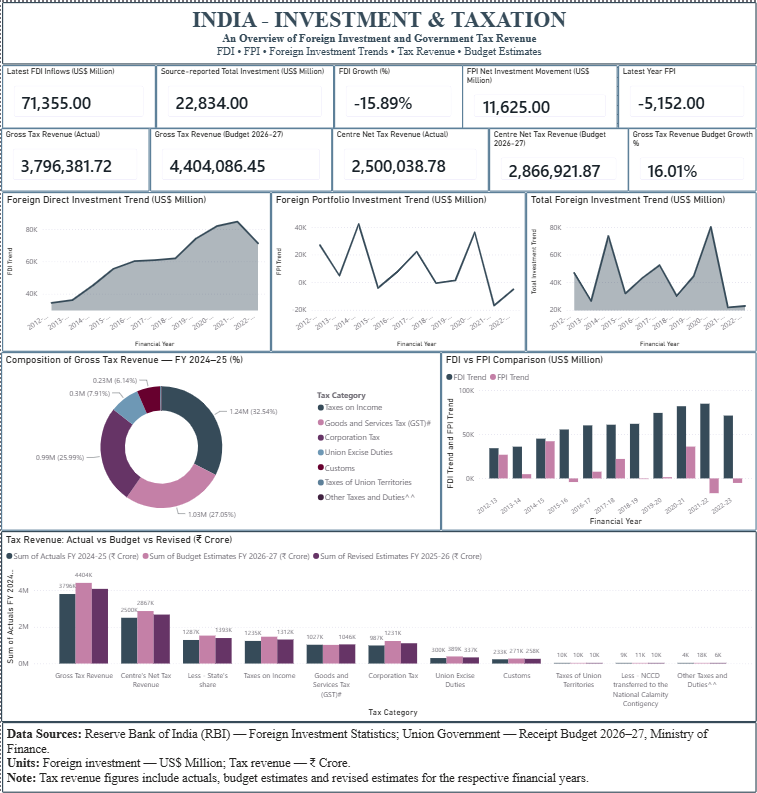

The dashboard page shown, as its layout file describes it:
{"tool":"powerbi","page":{"name":"Investment & Taxation","canvas":[1280,1340],"ordinal":7},"visuals":[{"type":"cardVisual","title":"Latest FDI Inflows (US$ Million)","fields":{"Data":["Fact_FDI.Latest Year FDI"]},"box":[1.7,106.3,260.6,108],"z":0},{"type":"cardVisual","title":"Latest Year FPI","fields":{"Data":["Fact_FPI.Latest Year FPI"]},"box":[1045.7,106.3,234.9,108],"z":1000},{"type":"cardVisual","title":"Source-reported Total Investment (US$ Million)","fields":{"Data":["Fact_Total_Investment.Latest Year Total Investment"]},"box":[262.3,106.3,301.7,108],"z":2000},{"type":"cardVisual","title":"FDI Growth (%)","fields":{"Data":["Fact_FDI.FDI Growth %"]},"box":[564,106.3,219.4,108],"z":3000},{"type":"cardVisual","title":"FPI Net Investment Movement (US$ Million)","fields":{"Data":["Fact_FPI.FPI Net Investment Movement"]},"box":[781.7,106.3,264,108],"z":4000},{"type":"lineChart","title":"Foreign Direct Investment Trend (US$ Million)","fields":{"Category":["Dim_Investment_Year.Financial Year"],"Y":["Fact_FDI.FDI Trend"]},"box":[1.7,322.3,456,270.9],"z":5000},{"type":"lineChart","title":"Foreign Portfolio Investment Trend (US$ Million)","fields":{"Category":["Dim_Investment_Year.Financial Year"],"Y":["Fact_FPI.FPI Trend"]},"box":[457.7,322.3,432,270.9],"z":6000},{"type":"lineChart","title":"Total Foreign Investment Trend (US$ Million)","fields":{"Category":["Dim_Investment_Year.Financial Year"],"Y":["Fact_Total_Investment.Total Investment Trend"]},"box":[889.7,322.3,390.9,270.9],"z":7000},{"type":"clusteredColumnChart","title":"FDI vs FPI Comparison (US$ Million)","fields":{"Category":["Dim_Investment_Year.Financial Year"],"Y":["Fact_FDI.FDI Trend","Fact_FPI.FPI Trend"]},"box":[745.7,593.1,534.9,303.4],"z":8000},{"type":"cardVisual","title":"Gross Tax Revenue (Actual)","fields":{"Data":["Fact_Tax_Revenue.Gross Tax Revenue (Actual)"]},"box":[0,214.3,252,108],"z":9000},{"type":"cardVisual","title":"Centre Net Tax Revenue (Actual)","fields":{"Data":["Fact_Tax_Revenue.Centre Net Tax Revenue (Actual)"]},"box":[560.6,214.3,265.7,108],"z":10000},{"type":"cardVisual","title":"Gross Tax Revenue (Budget 2026-27)","fields":{"Data":["Fact_Tax_Revenue.Gross Tax Revenue (Budget 2026-27)"]},"box":[252,214.3,308.6,108],"z":11000},{"type":"cardVisual","title":"Centre Net Tax Revenue (Budget 2026-27)","fields":{"Data":["Fact_Tax_Revenue.Centre Net Tax Revenue (Budget 2026-27)"]},"box":[826.3,214.3,236.6,108],"z":12000},{"type":"cardVisual","title":"Gross Tax Revenue Budget Growth %","fields":{"Data":["Fact_Tax_Revenue.Gross Tax Revenue Budget Growth %"]},"box":[1062.9,214.3,217.7,108],"z":13000},{"type":"clusteredColumnChart","title":"Tax Revenue: Actual vs Budget vs Revised (₹ Crore)","fields":{"Category":["Fact_Tax_Revenue.Tax Category"],"Y":["Sum(Fact_Tax_Revenue.Actuals FY 2024-25 (₹ Crore))","Sum(Fact_Tax_Revenue.Budget Estimates FY 2026-27 (₹ Crore))","Sum(Fact_Tax_Revenue.Revised Estimates FY 2025-26 (₹ Crore))"]},"box":[0,896.6,1280.6,324],"z":14000},{"type":"donutChart","title":"Composition of Gross Tax Revenue — FY 2024–25 (%)","fields":{"Category":["Fact_Tax_Revenue.Tax Category"],"Y":["Sum(Fact_Tax_Revenue.Actuals FY 2024-25 (₹ Crore))"]},"box":[0,593.1,745.7,303.4],"z":15000},{"type":"textbox","box":[1.7,1220.6,1278.9,120],"z":16000},{"type":"textbox","box":[1.7,0,1278.9,106.3],"z":17000}]}

Visuals, with their boxes in screenshot pixels (x1, y1, x2, y2), scaled from the page's 1280x1340 canvas onto the 757x793 screenshot:
"Latest FDI Inflows (US$ Million)" cardVisual: [1,63,155,127]
"Latest Year FPI" cardVisual: [618,63,756,127]
"Source-reported Total Investment (US$ Million)" cardVisual: [155,63,334,127]
"FDI Growth (%)" cardVisual: [334,63,463,127]
"FPI Net Investment Movement (US$ Million)" cardVisual: [462,63,618,127]
"Foreign Direct Investment Trend (US$ Million)" lineChart: [1,191,271,351]
"Foreign Portfolio Investment Trend (US$ Million)" lineChart: [271,191,526,351]
"Total Foreign Investment Trend (US$ Million)" lineChart: [526,191,756,351]
"FDI vs FPI Comparison (US$ Million)" clusteredColumnChart: [441,351,756,531]
"Gross Tax Revenue (Actual)" cardVisual: [0,127,149,191]
"Centre Net Tax Revenue (Actual)" cardVisual: [332,127,489,191]
"Gross Tax Revenue (Budget 2026-27)" cardVisual: [149,127,332,191]
"Centre Net Tax Revenue (Budget 2026-27)" cardVisual: [489,127,629,191]
"Gross Tax Revenue Budget Growth %" cardVisual: [629,127,756,191]
"Tax Revenue: Actual vs Budget vs Revised (₹ Crore)" clusteredColumnChart: [0,531,756,722]
"Composition of Gross Tax Revenue — FY 2024–25 (%)" donutChart: [0,351,441,531]
textbox: [1,722,756,792]
textbox: [1,0,756,63]
